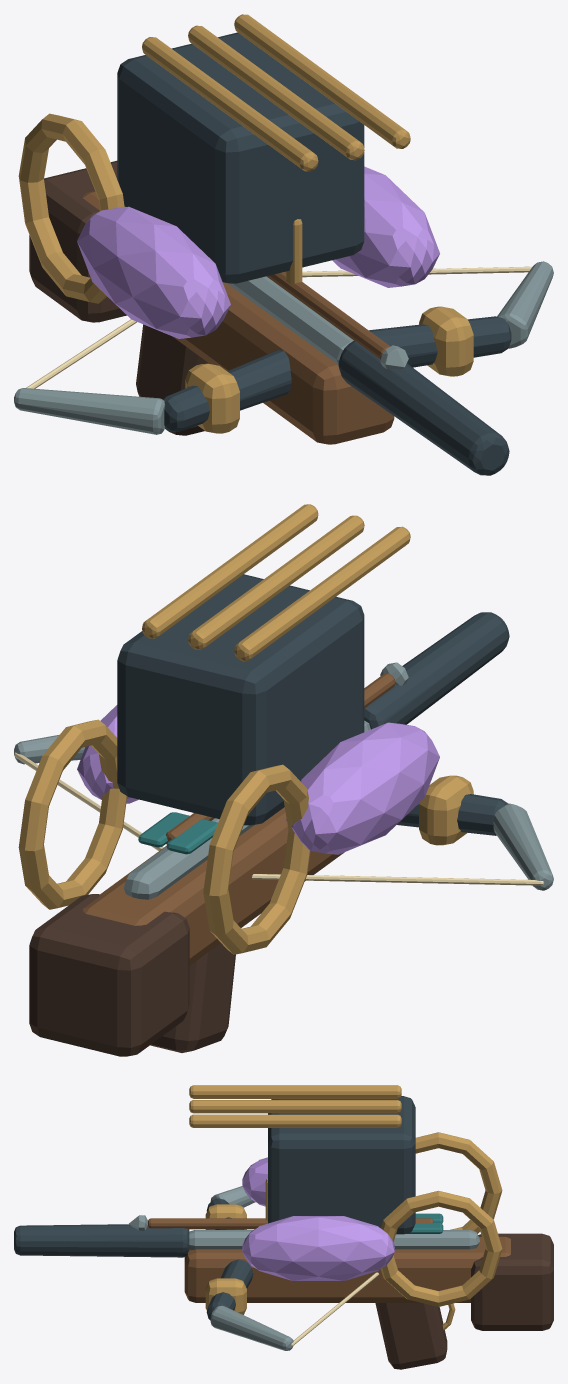
File: weapon_repeater.glb
3 renders of one model, top to bottom at view 1: azimuth 30°, elevation 25°; view 2: azimuth 150°, elevation 25°; view 3: azimuth 270°, elevation 25°, orthographic. The views are drawn at different scales.
Parts seen in each view (by area): view 1: Magazine, SpareBolt, AetherCell, WalnutStock.004, Rail.004, ShoulderButt.004, SteelBowInner.004, LimbBinding.004, LoadedBolt.003, BowString.004; view 2: Magazine, SpareBolt, ShoulderButt.004, AetherCell, WalnutStock.004, Rail.004, LimbBinding.004, BowString.004, Fletching.004, SteelBowInner.004, LoadedBolt.003; view 3: Magazine, SpareBolt, ShoulderButt.004, AetherCell, WalnutStock.004, Rail.004, LimbBinding.004, LoadedBolt.003, SteelBowInner.004, Fletching.004, BowString.004.
Boxes of the visible parts, left/top/right/bottom form: Magazine: left=117, top=32, right=509, bottom=475; SpareBolt: left=18, top=14, right=410, bottom=303; AetherCell: left=77, top=166, right=439, bottom=338; WalnutStock.004: left=83, top=191, right=394, bottom=444; Rail.004: left=14, top=261, right=553, bottom=434; ShoulderButt.004: left=29, top=160, right=209, bottom=435; SteelBowInner.004: left=163, top=316, right=511, bottom=431; LimbBinding.004: left=185, top=219, right=473, bottom=433; LoadedBolt.003: left=267, top=271, right=390, bottom=359; BowString.004: left=26, top=266, right=532, bottom=388; Magazine: left=117, top=574, right=509, bottom=825; SpareBolt: left=18, top=504, right=410, bottom=954; ShoulderButt.004: left=29, top=894, right=235, bottom=1056; AetherCell: left=77, top=705, right=439, bottom=854; WalnutStock.004: left=83, top=807, right=344, bottom=965; Rail.004: left=14, top=720, right=553, bottom=899; LimbBinding.004: left=419, top=775, right=473, bottom=845; BowString.004: left=14, top=752, right=543, bottom=885; Fletching.004: left=138, top=812, right=217, bottom=854; SteelBowInner.004: left=397, top=794, right=508, bottom=835; LoadedBolt.003: left=166, top=673, right=395, bottom=844; Magazine: left=14, top=1096, right=415, bottom=1257; SpareBolt: left=189, top=1085, right=502, bottom=1306; ShoulderButt.004: left=375, top=1233, right=553, bottom=1369; AetherCell: left=242, top=1157, right=394, bottom=1280; WalnutStock.004: left=184, top=1236, right=510, bottom=1302; Rail.004: left=189, top=1186, right=479, bottom=1350; LimbBinding.004: left=205, top=1178, right=455, bottom=1330; LoadedBolt.003: left=148, top=1218, right=433, bottom=1229; SteelBowInner.004: left=206, top=1198, right=253, bottom=1320; Fletching.004: left=406, top=1213, right=443, bottom=1233; BowString.004: left=291, top=1272, right=378, bottom=1346.
Bounding box in the file's own units: 0.8749 × 0.6307 × 1.17.
